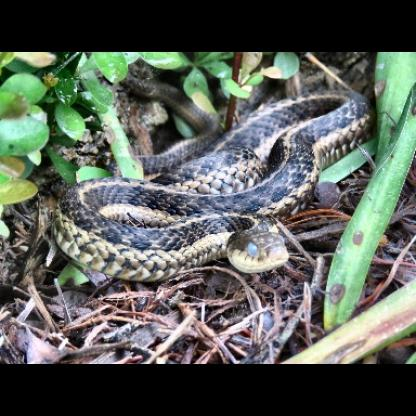Snake: (56, 86, 370, 284)
